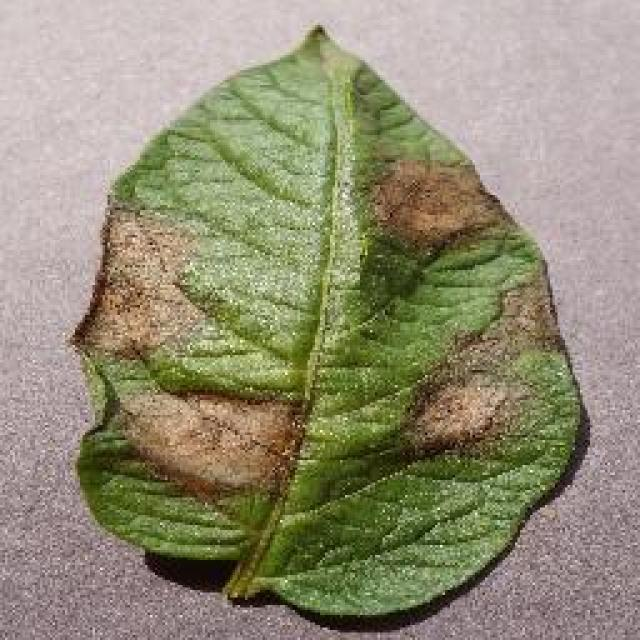late_blight: (65, 20, 593, 628)
